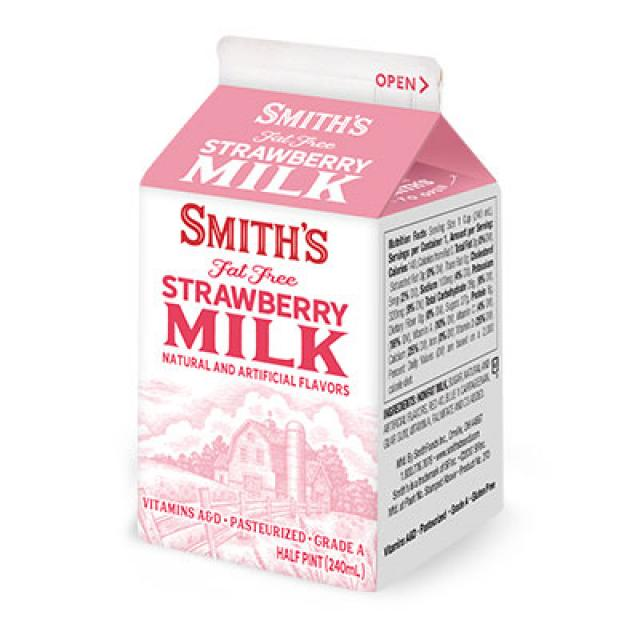non_white_jug: (106, 30, 515, 597)
